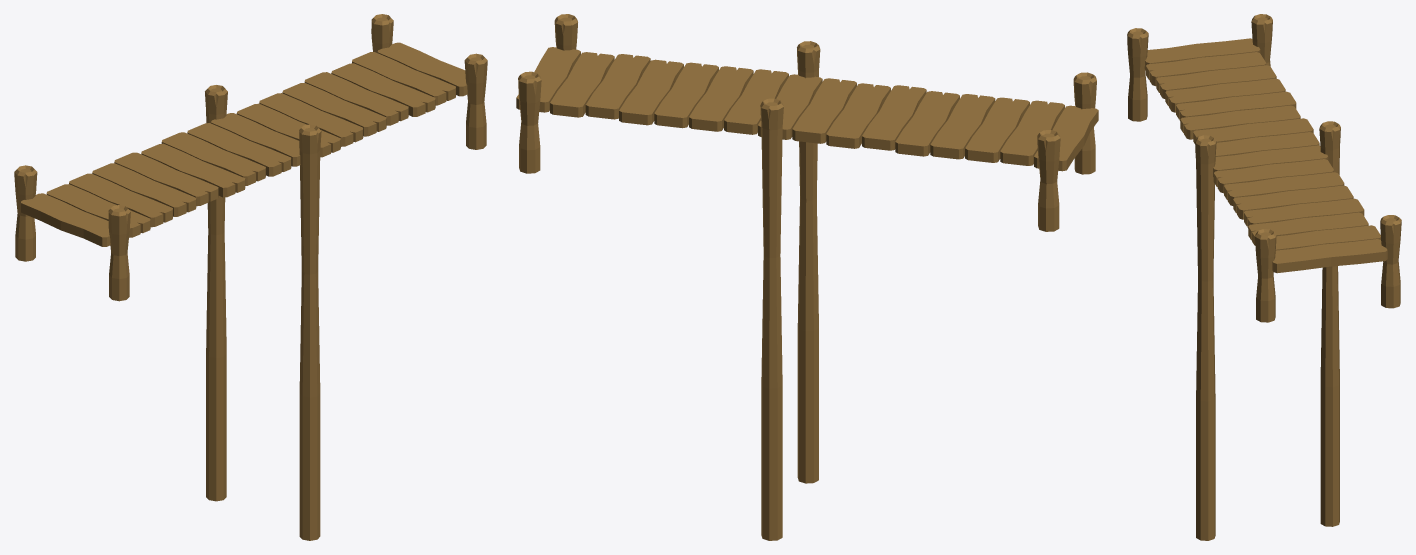
The model's file is brige2_s3.fbx.
3 views of the same model, side by side, from view 1: azimuth 30°, elevation 25°; view 2: azimuth 150°, elevation 25°; view 3: azimuth 270°, elevation 25° (orthographic). The views are drawn at different scales.
Parts seen in each view (by area): view 1: Cube.058; view 2: Cube.058; view 3: Cube.058.
Part boxes in pixels (bbox=[...]): Cube.058: bbox=[14, 14, 487, 540]; Cube.058: bbox=[516, 14, 1098, 540]; Cube.058: bbox=[1127, 14, 1401, 540].
Size of the model in its own units: 3434 by 2826 by 1767.
